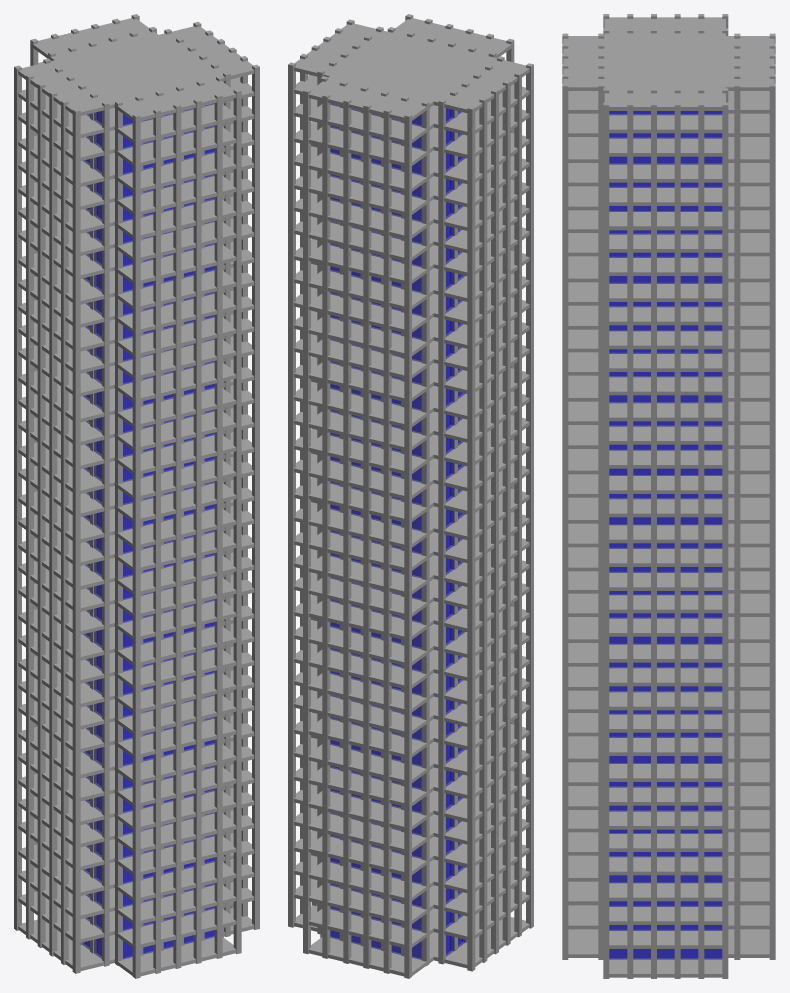
File: Building_6.fbx
3 renders of one model, left to right at view 1: azimuth 30°, elevation 25°; view 2: azimuth 150°, elevation 25°; view 3: azimuth 270°, elevation 25°, orthographic.
Parts seen in each view (by area): view 1: Building_6; view 2: Building_6; view 3: Building_6.
Boxes of the visible parts, <box> form: Building_6: <box>14,14,259,978</box>; Building_6: <box>288,14,533,978</box>; Building_6: <box>562,14,775,978</box>.
Bounding box in the file's own units: 36.5 × 163 × 36.07.
